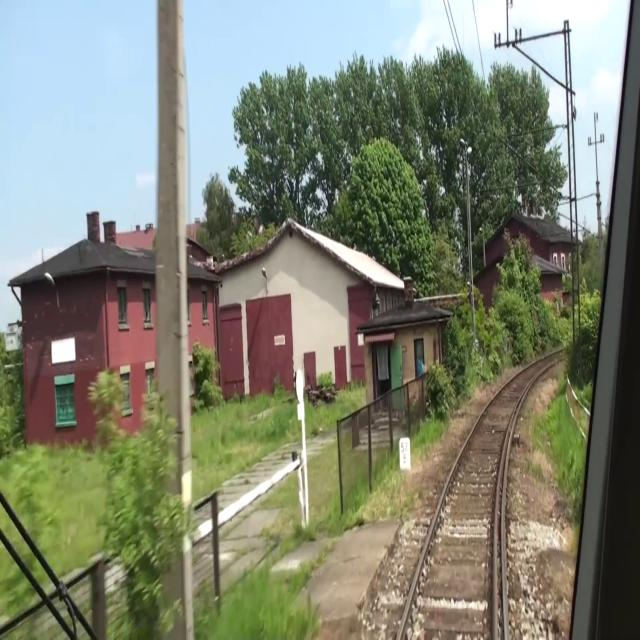rail-track: (400, 350, 564, 639)
